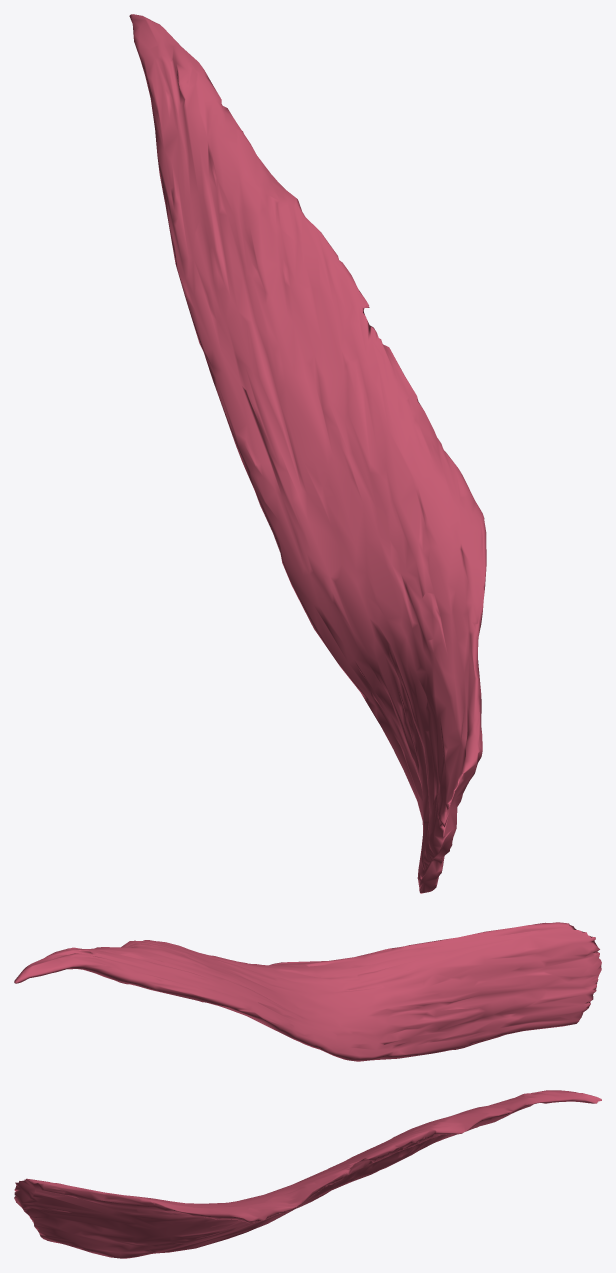
The picture shows the model from 3 angles, top to bottom: view 1: azimuth 30°, elevation 25°; view 2: azimuth 150°, elevation 25°; view 3: azimuth 270°, elevation 25°; orthographic projection. The views are drawn at different scales.
Parts seen in each view (by area): view 1: 右侧头夹肌; view 2: 右侧头夹肌; view 3: 右侧头夹肌.
Boxes of the visible parts, bbox=[...] form: 右侧头夹肌: bbox=[129, 14, 486, 893]; 右侧头夹肌: bbox=[14, 922, 601, 1061]; 右侧头夹肌: bbox=[14, 1090, 601, 1258].
Bounding box in the file's own units: 0.0904 × 0.1242 × 0.3177.
